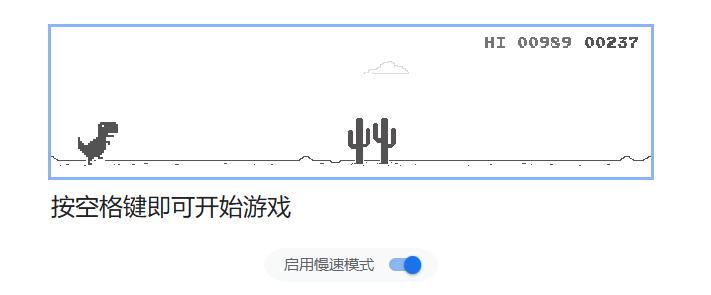cactus: (343, 116, 397, 166)
dino: (73, 120, 123, 167)
